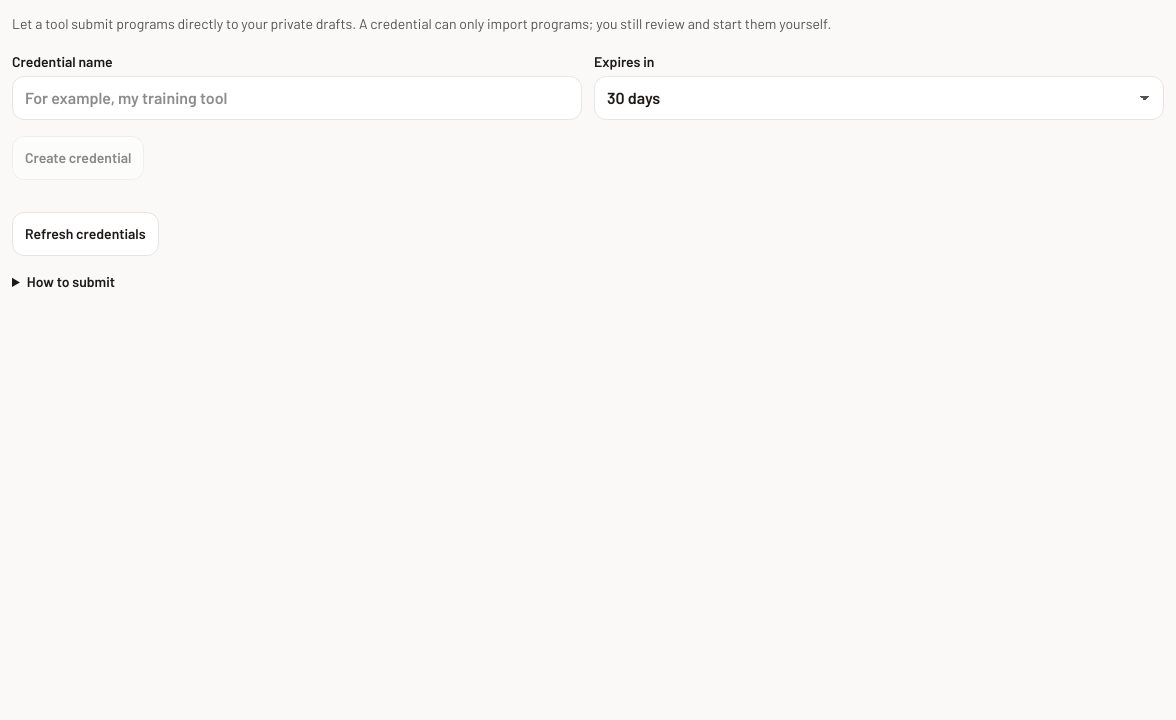
Scenario: shows a newly created secret once and can revoke without listing secrets
Type "My tool" into the field labelled "Credential name" at [297, 98], box [12,76,582,120]
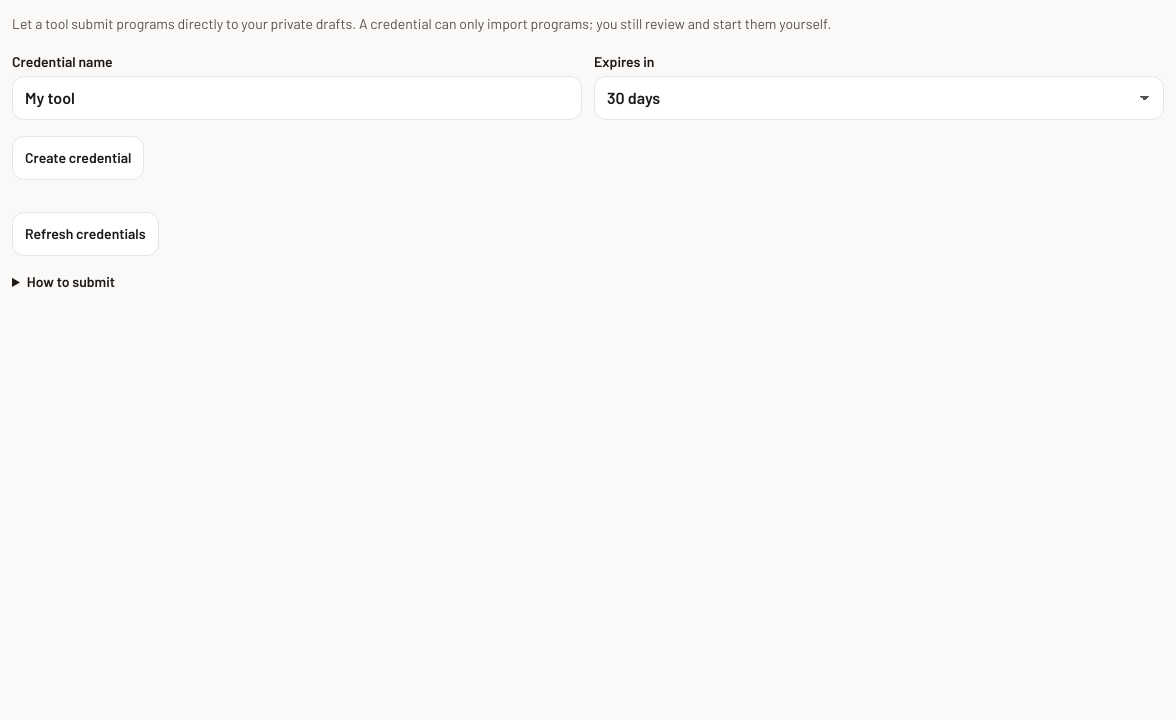
Click the button "Create credential" at [78, 158], box [12,136,144,180]
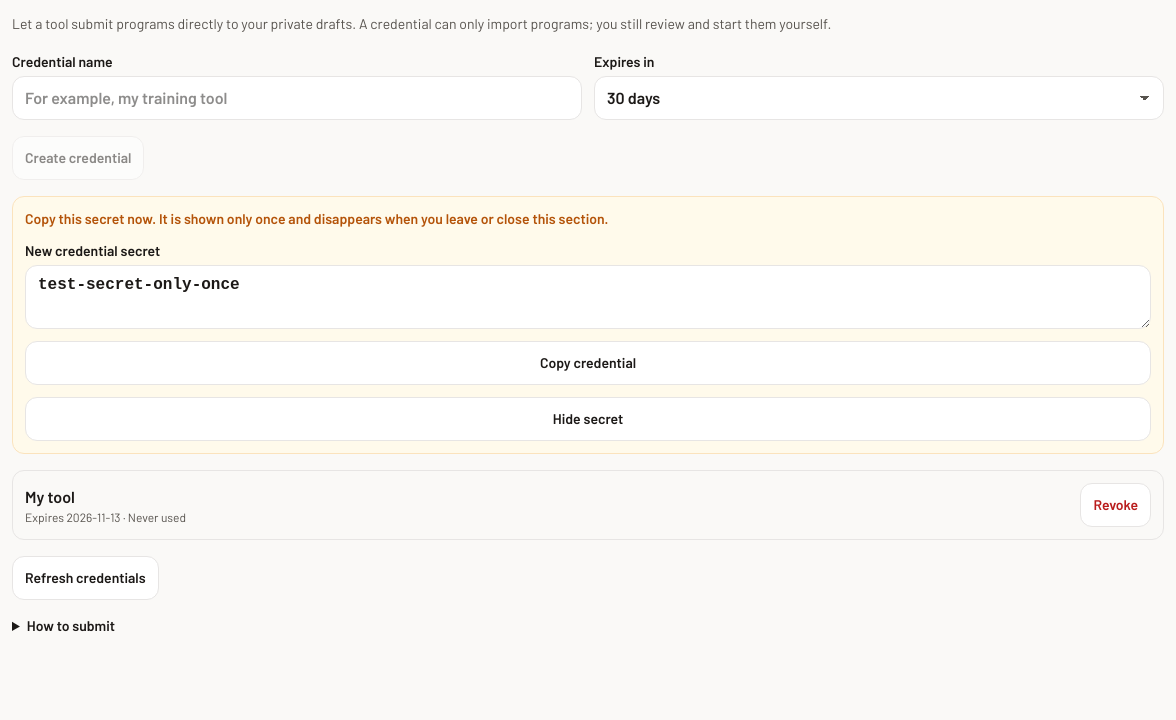
Now the text box labelled "New credential secret" holds "test-secret-only-once", box [25,265,1151,329]
Click the button with aria-label "Revoke My tool" at [1116, 505], box [1080,483,1151,527]
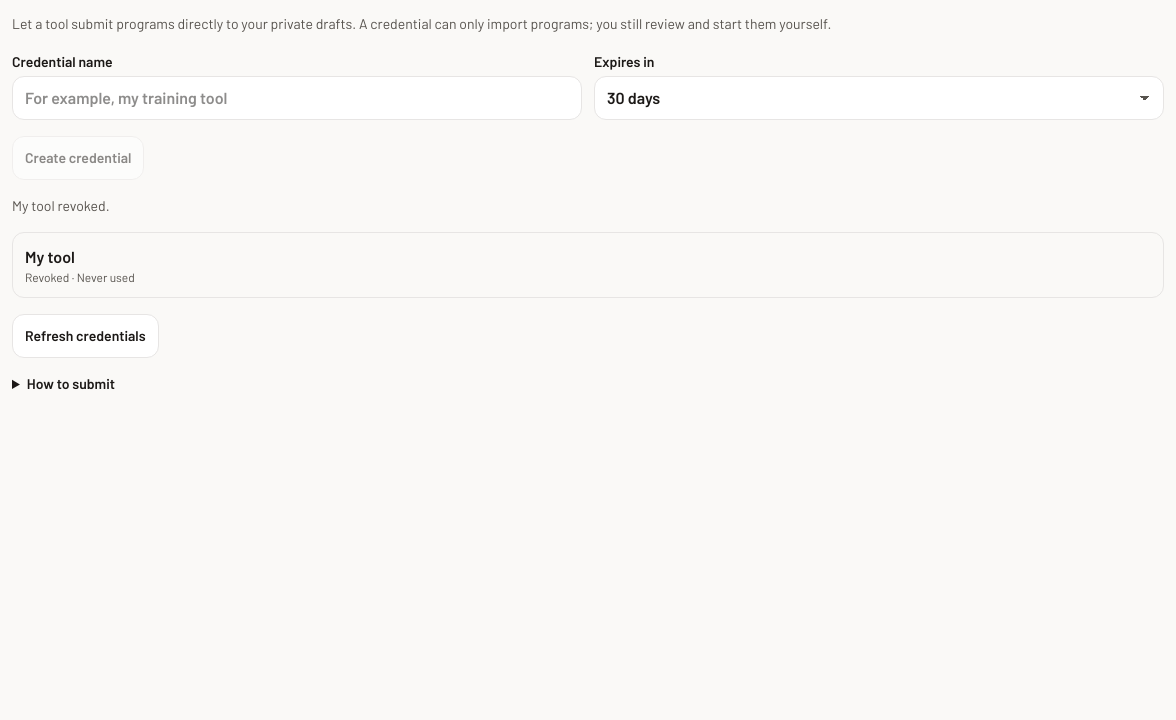
Now the label labelled "New credential secret" is gone
